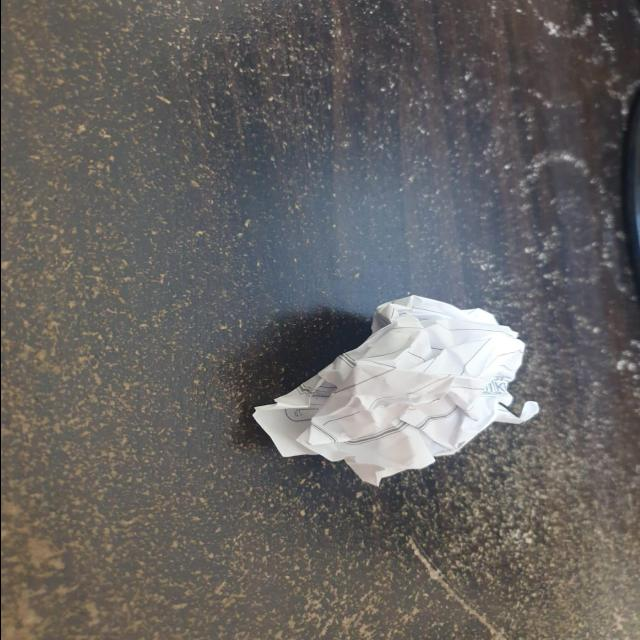kertas: (262, 291, 556, 496)
